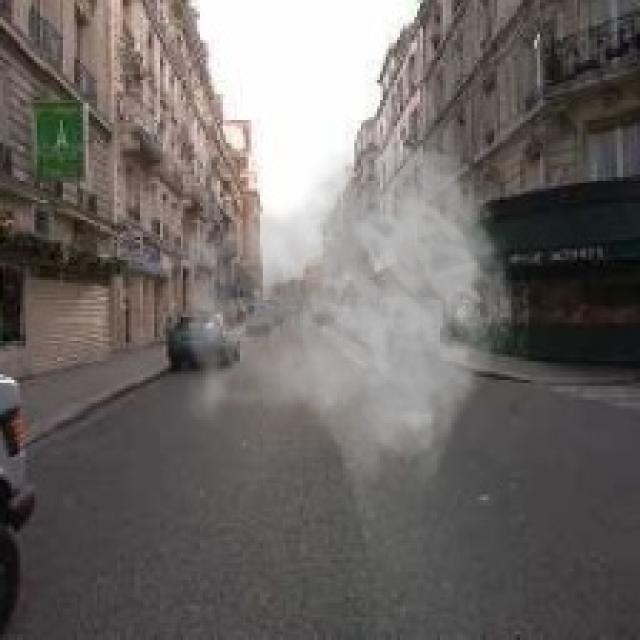Smoke: (152, 122, 514, 492)
